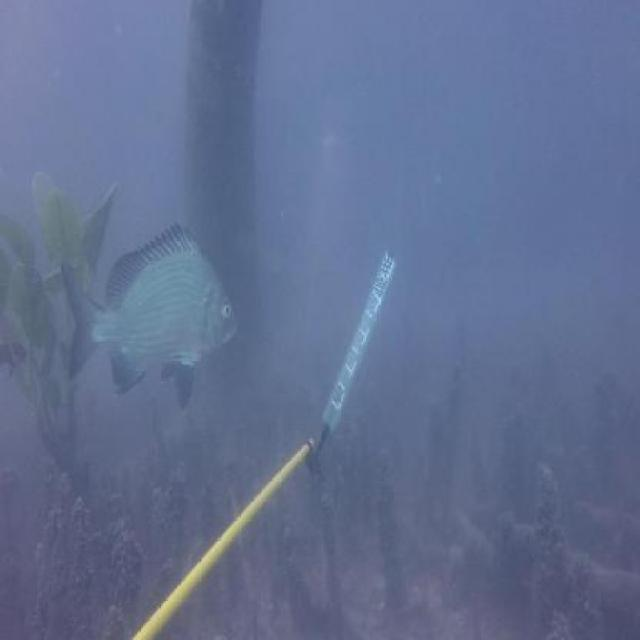acanthopagrus_palmaris: (60, 218, 240, 416)
